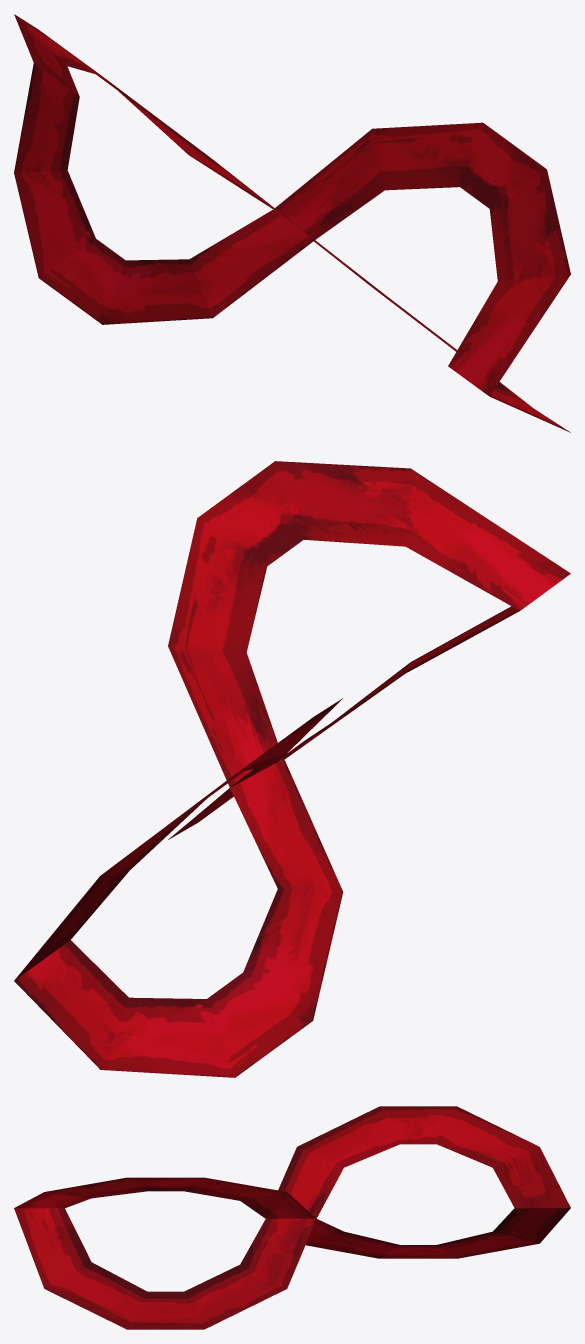
File: Vein.fbx
3 renders of one model, top to bottom at view 1: azimuth 30°, elevation 25°; view 2: azimuth 150°, elevation 25°; view 3: azimuth 270°, elevation 25°, orthographic. The views are drawn at different scales.
Parts seen in each view (by area): view 1: Vein2; view 2: Vein2; view 3: Vein2.
Part boxes in pixels (x1=…): Vein2: x1=14, y1=14, x2=570, y2=432; Vein2: x1=14, y1=461, x2=570, y2=1077; Vein2: x1=14, y1=1106, x2=570, y2=1329.
Size of the model in its own units: 95.32 by 95.16 by 316.
